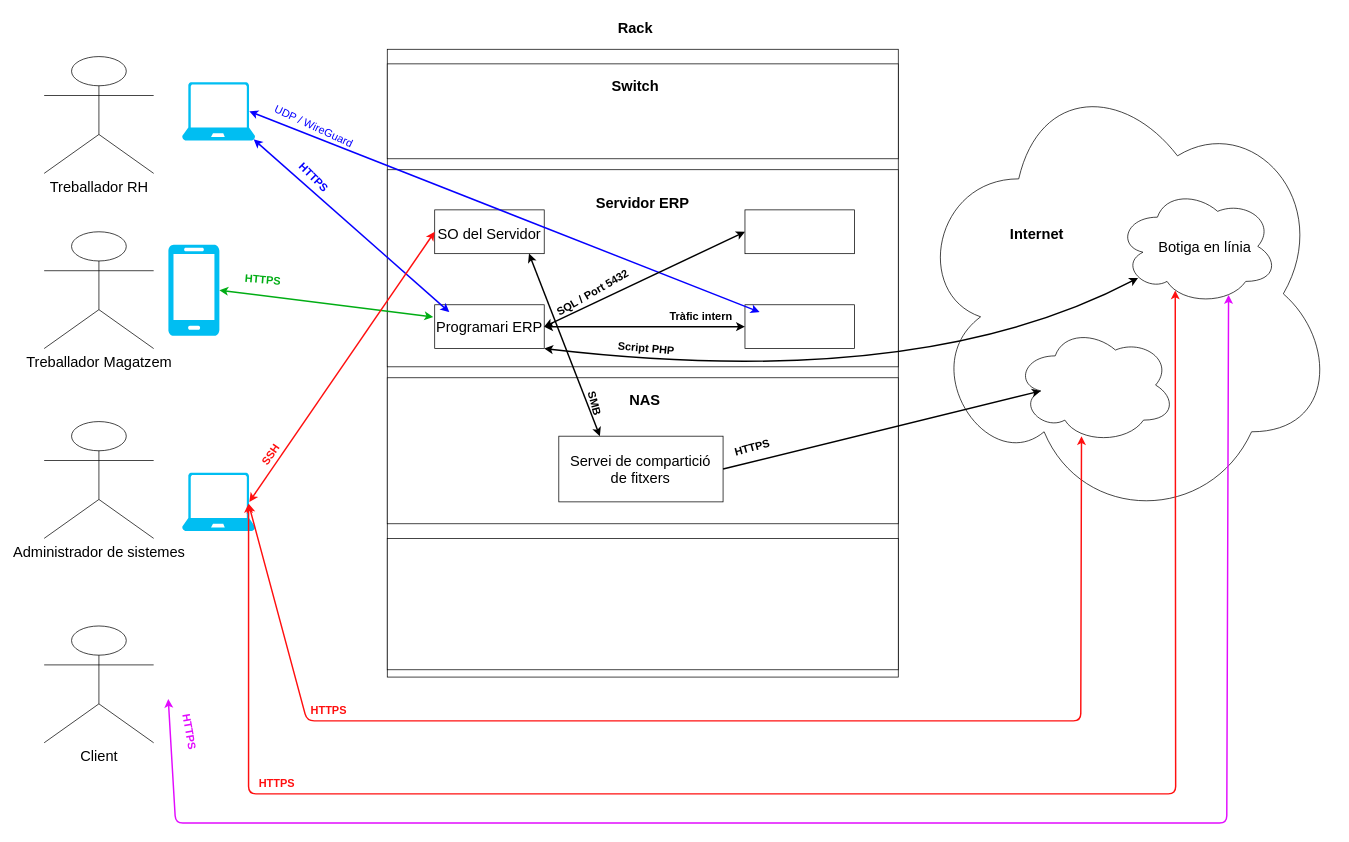
The diagram is 1349 pixels wide and 842 high, and some of its shapes have lost their labels. The box of each missing label's shape, as (x1, y1, x2, y2) in pixels:
Base de dades: (744, 209, 854, 254)
Emmagatzematge extern al núvol: (1014, 326, 1176, 443)
SAI: (387, 538, 898, 670)
VPN: (744, 304, 854, 349)
